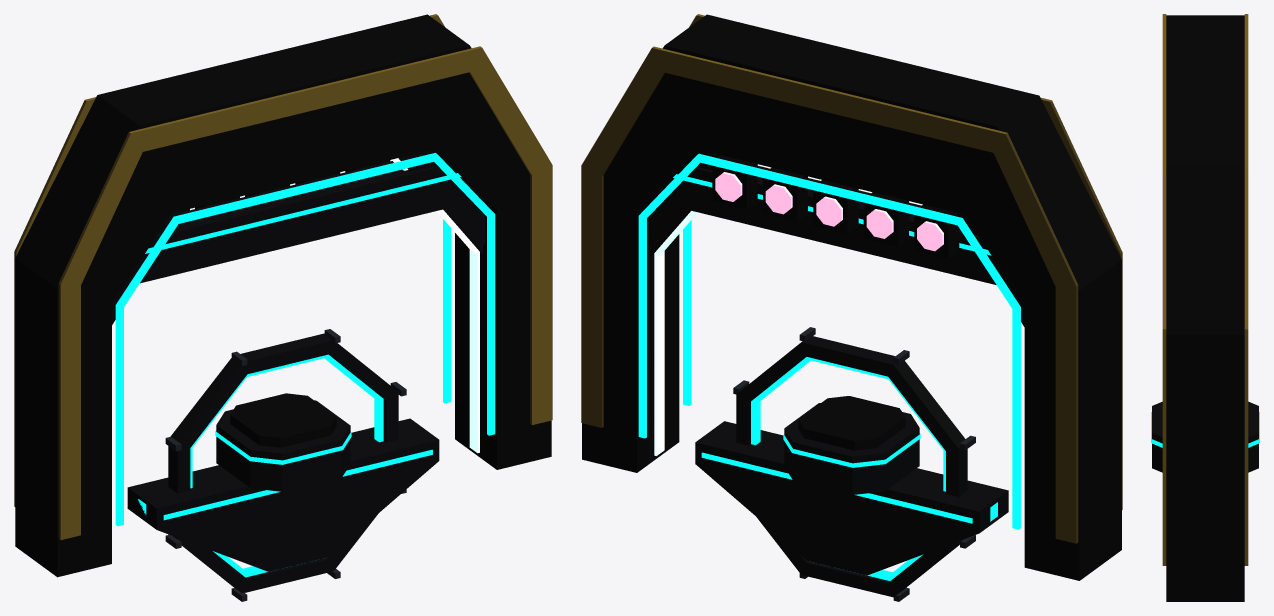
File: shaddai_race_kit_v01.glb
3 views of the same model, side by side, from view 1: azimuth 30°, elevation 25°; view 2: azimuth 150°, elevation 25°; view 3: azimuth 270°, elevation 25° (orthographic). The views are drawn at different scales.
Parts seen in each view (by area): view 1: race_start_gate, race_pylon_head, race_gantry, race_boost_ring, race_pylon_foot, race_checkpoint; view 2: race_start_gate, race_pylon_head, race_boost_ring, race_pylon_foot, race_gantry, race_checkpoint, race_start_light_1, race_start_light_4, race_start_light_2, race_start_light_0, race_start_light_3; view 3: race_start_gate, race_pylon_foot.
Part boxes in pixels (bbox=[...]): race_start_gate: bbox=[14, 14, 552, 577]; race_pylon_head: bbox=[127, 418, 439, 571]; race_gantry: bbox=[112, 152, 485, 460]; race_boost_ring: bbox=[165, 329, 406, 601]; race_pylon_foot: bbox=[215, 393, 351, 491]; race_checkpoint: bbox=[112, 150, 483, 453]; race_start_gate: bbox=[581, 14, 1122, 580]; race_pylon_head: bbox=[695, 421, 1008, 575]; race_boost_ring: bbox=[733, 327, 975, 601]; race_pylon_foot: bbox=[783, 396, 920, 494]; race_gantry: bbox=[649, 153, 1024, 463]; race_checkpoint: bbox=[651, 151, 1024, 455]; race_start_light_1: bbox=[863, 192, 908, 246]; race_start_light_4: bbox=[712, 155, 757, 209]; race_start_light_2: bbox=[813, 180, 858, 234]; race_start_light_0: bbox=[914, 204, 959, 258]; race_start_light_3: bbox=[763, 167, 807, 221]; race_start_gate: bbox=[1162, 14, 1248, 601]; race_pylon_foot: bbox=[1151, 401, 1259, 472].
Size of the model in its own units: 21.7 by 21.56 by 4.46.
